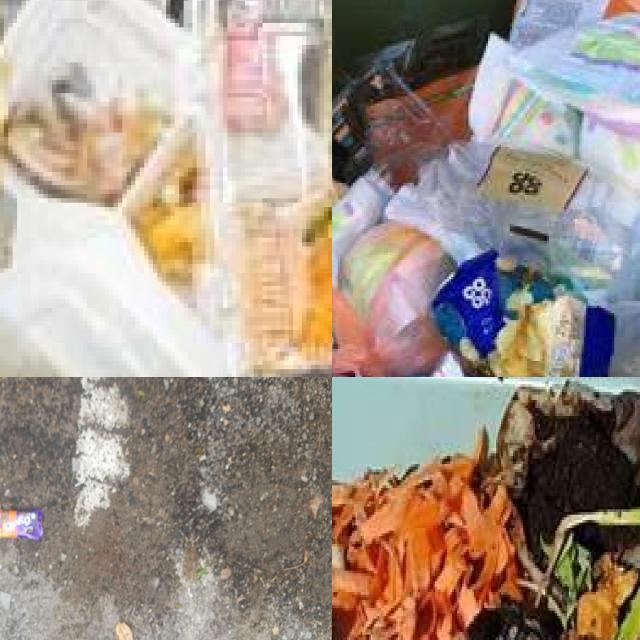Background: (0, 377, 332, 640)
Disposable: (187, 0, 332, 377), (0, 170, 225, 377), (1, 0, 185, 203)
Garbage: (332, 0, 640, 377), (332, 377, 640, 640)
Plastic_wraper: (385, 143, 640, 305), (332, 17, 489, 188), (433, 250, 586, 377), (332, 221, 456, 377), (510, 0, 640, 48), (0, 509, 42, 540)
